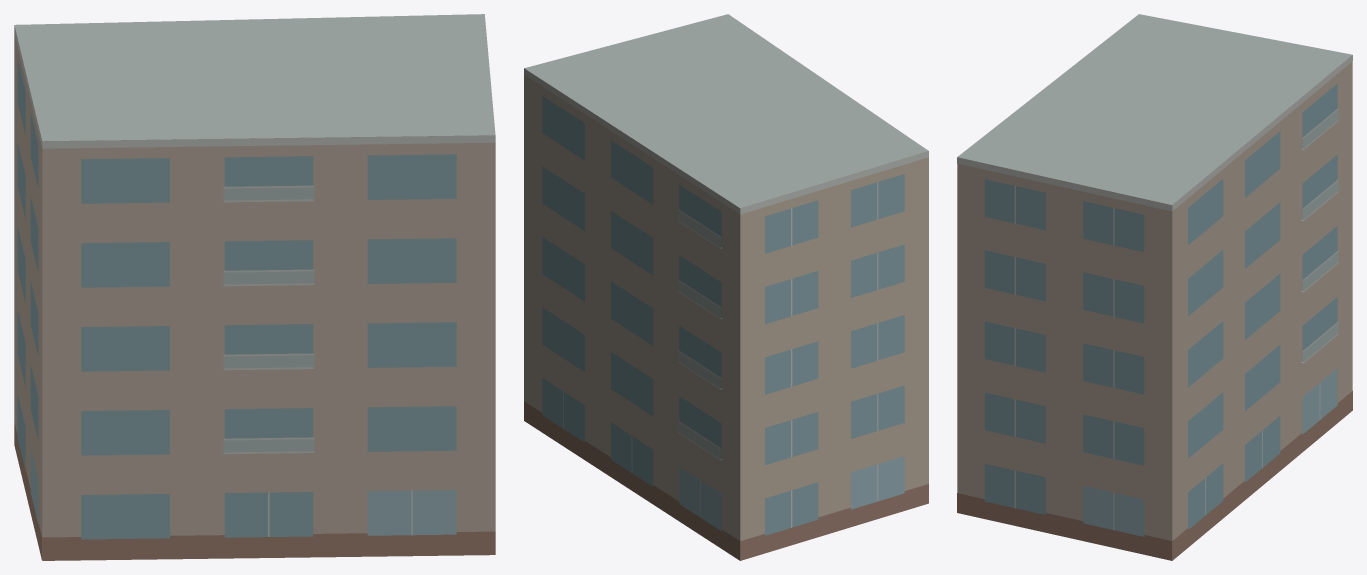
File: survey-upis-32881822.glb
3 views of the same model, side by side, from view 1: azimuth 30°, elevation 25°; view 2: azimuth 150°, elevation 25°; view 3: azimuth 270°, elevation 25° (orthographic). The views are drawn at different scales.
Visible parts, largest first — view 1: survey-upis-32881822.tmp; view 2: survey-upis-32881822.tmp; view 3: survey-upis-32881822.tmp.
Boxes of the visible parts, x1=… form: survey-upis-32881822.tmp: x1=14, y1=14, x2=495, y2=560; survey-upis-32881822.tmp: x1=524, y1=14, x2=928, y2=560; survey-upis-32881822.tmp: x1=957, y1=14, x2=1352, y2=560.
Size of the model in its own units: 15.74 by 13.65 by 13.77.
